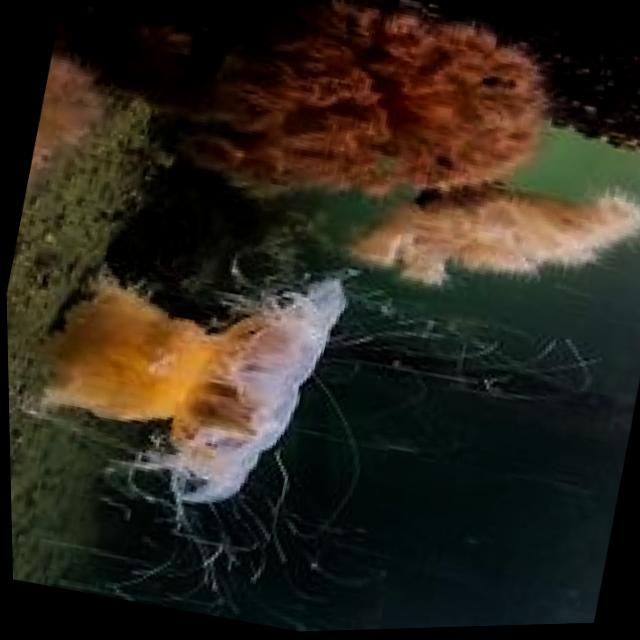Jellyfish: (4, 211, 383, 579)
